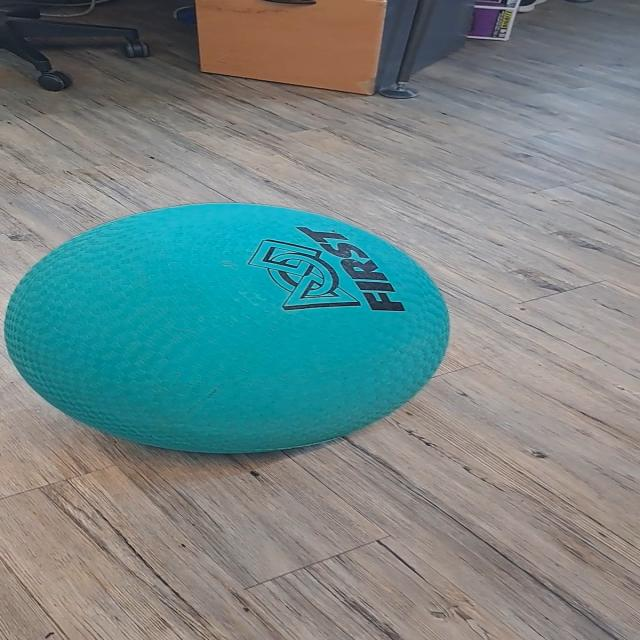ALGAE: (2, 201, 452, 455)
